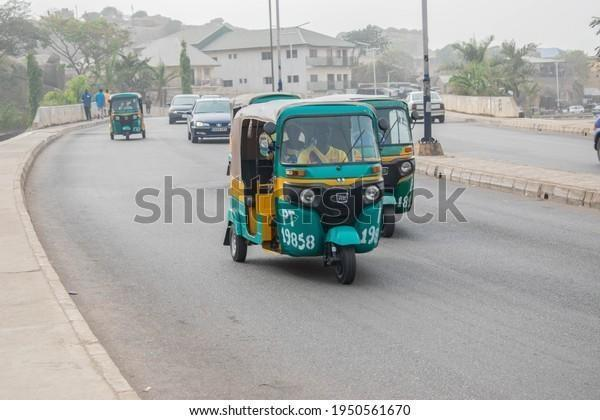keke: (220, 92, 388, 290), (102, 90, 148, 142)
